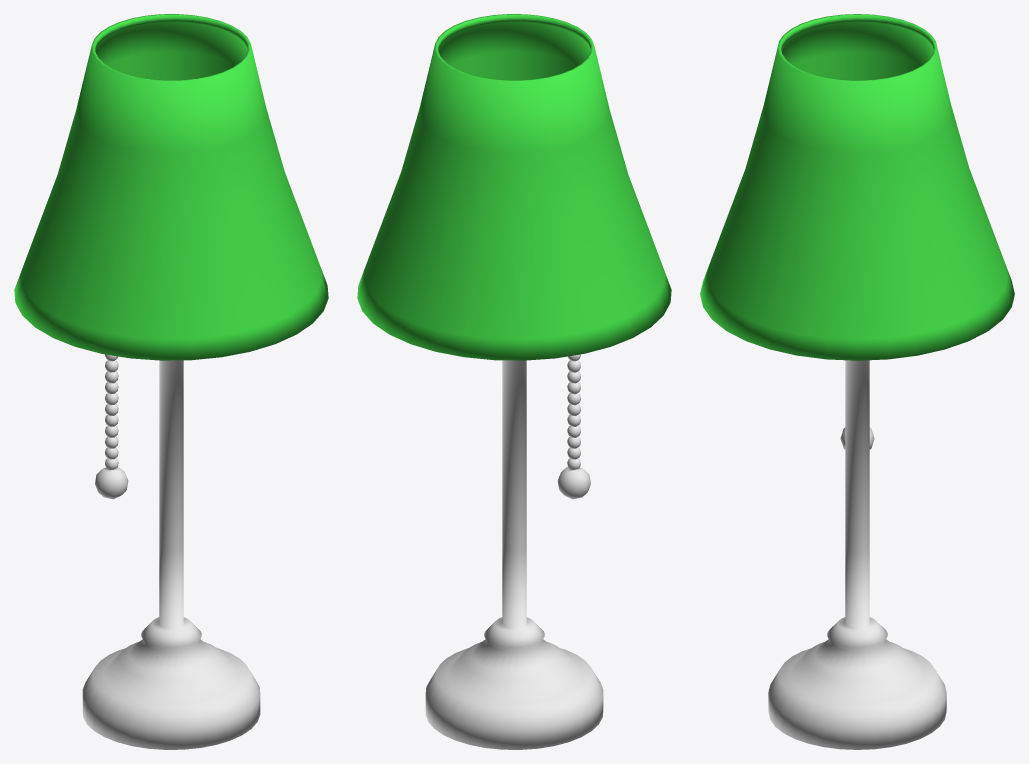
Rendered from BedsideLamp.fbx.
3 views of the same model, side by side, from view 1: azimuth 30°, elevation 25°; view 2: azimuth 150°, elevation 25°; view 3: azimuth 270°, elevation 25° (orthographic).
Parts seen in each view (by area): view 1: Cylinder.002, Cylinder.001; view 2: Cylinder.002, Cylinder.001; view 3: Cylinder.002, Cylinder.001.
Boxes of the visible parts, x1=… form: Cylinder.002: x1=14, y1=14, x2=328, y2=360; Cylinder.001: x1=82, y1=354, x2=260, y2=749; Cylinder.002: x1=357, y1=14, x2=671, y2=360; Cylinder.001: x1=425, y1=354, x2=603, y2=749; Cylinder.002: x1=700, y1=14, x2=1014, y2=360; Cylinder.001: x1=768, y1=360, x2=946, y2=749.
Size of the model in its own units: 200 by 466 by 200.
